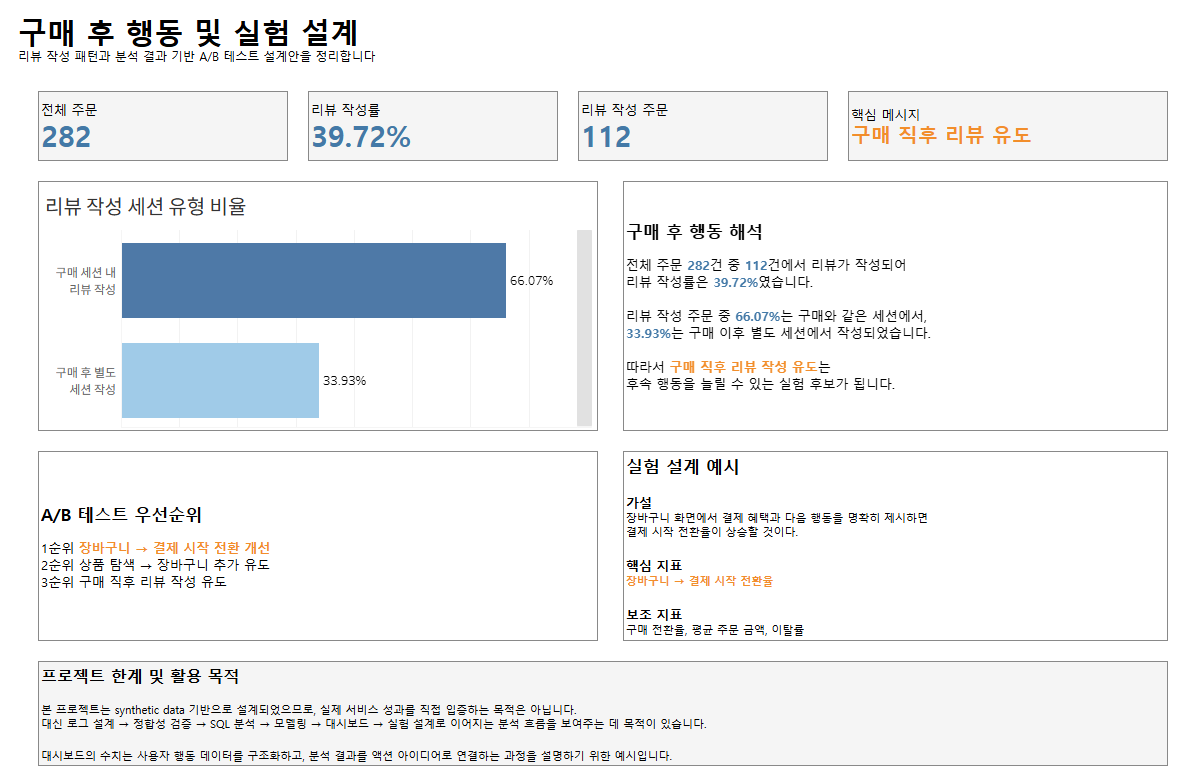

Layout of this report page (visuals, bound fields, positions):
{"tool":"tableau","page":{"name":"03_구매 후 행동 및 실험 설계","canvas":[1200,800],"ordinal":2},"visuals":[{"type":"text","box":[35,20,1000,65]},{"type":"text","box":[55,105,250,70]},{"type":"text","box":[325,105,250,70]},{"type":"text","box":[595,105,250,70]},{"type":"text","box":[865,105,320,70]},{"type":"worksheet","title":"리뷰작성세션유형비","mark":"Bar","rows":["review_session_type"],"cols":["review_type_rate"],"box":[55,195,560,250]},{"type":"text","box":[640,195,545,250]},{"type":"text","box":[55,465,560,190]},{"type":"text","box":[640,465,545,190]},{"type":"text","box":[55,675,1130,105]}]}

Visuals, with their boxes in screenshot pixels (x1, y1, x2, y2), scaled from the page's 1200x800 canvas onto the 1196x780 screenshot:
text: 35:20:1032:83
text: 55:102:304:171
text: 324:102:573:171
text: 593:102:842:171
text: 862:102:1181:171
"리뷰작성세션유형비" worksheet (Bar marks): 55:190:613:434
text: 638:190:1181:434
text: 55:453:613:639
text: 638:453:1181:639
text: 55:658:1181:760
